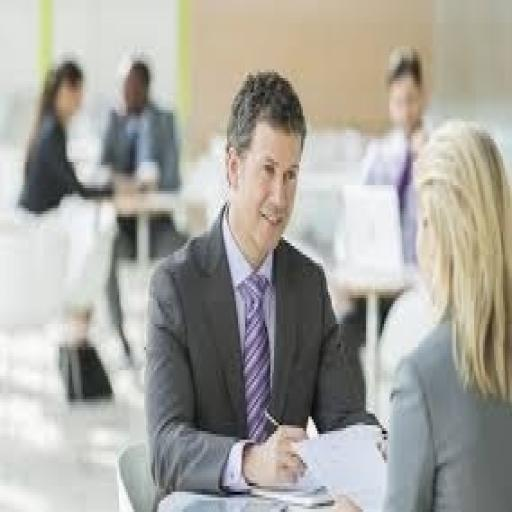sitting: (18, 40, 508, 504), (142, 66, 386, 498)
